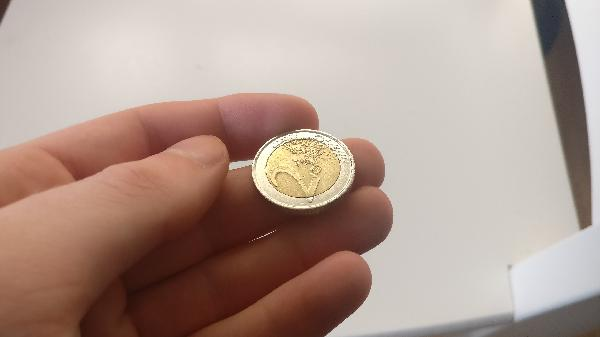Two Euro: (251, 127, 356, 214)
